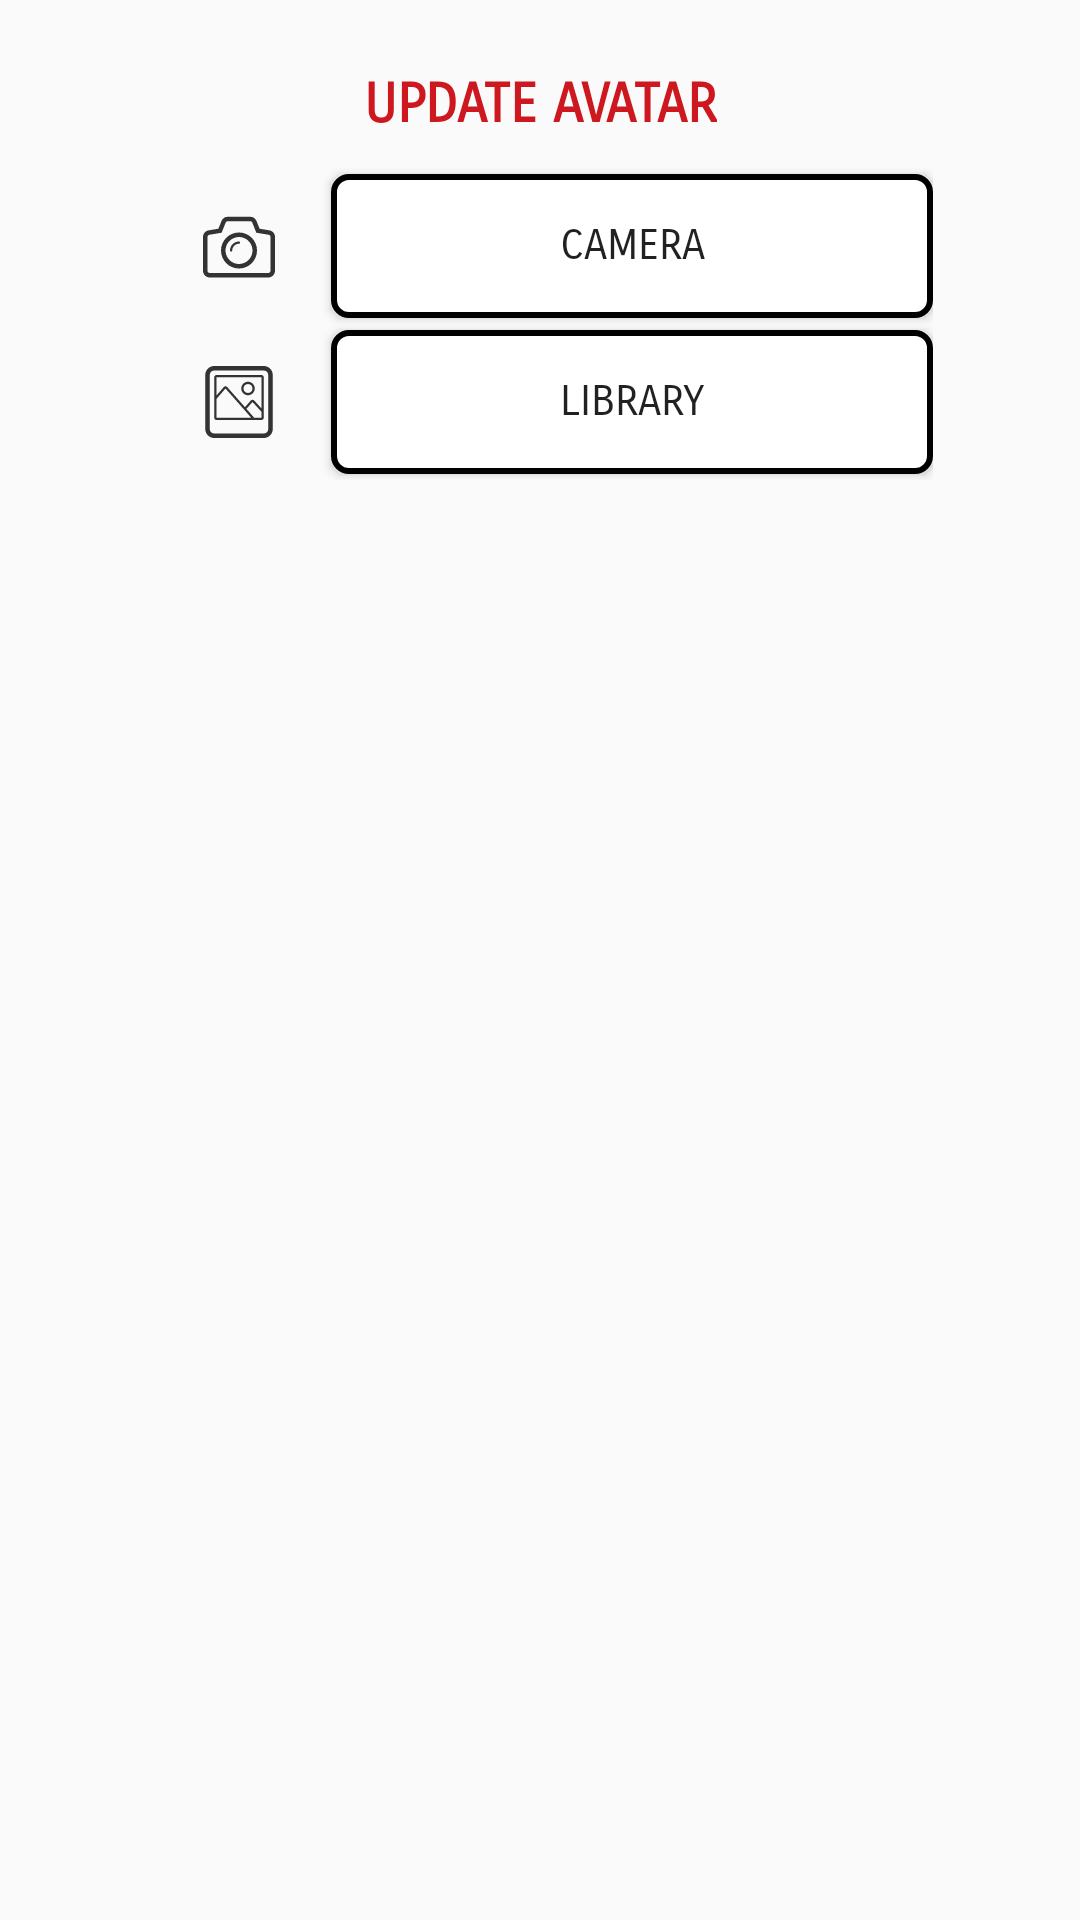

Icon click points for this 1080x1920 phone screenshot, format (x=x, y=y):
iconfinder photo: (x=239, y=402)
